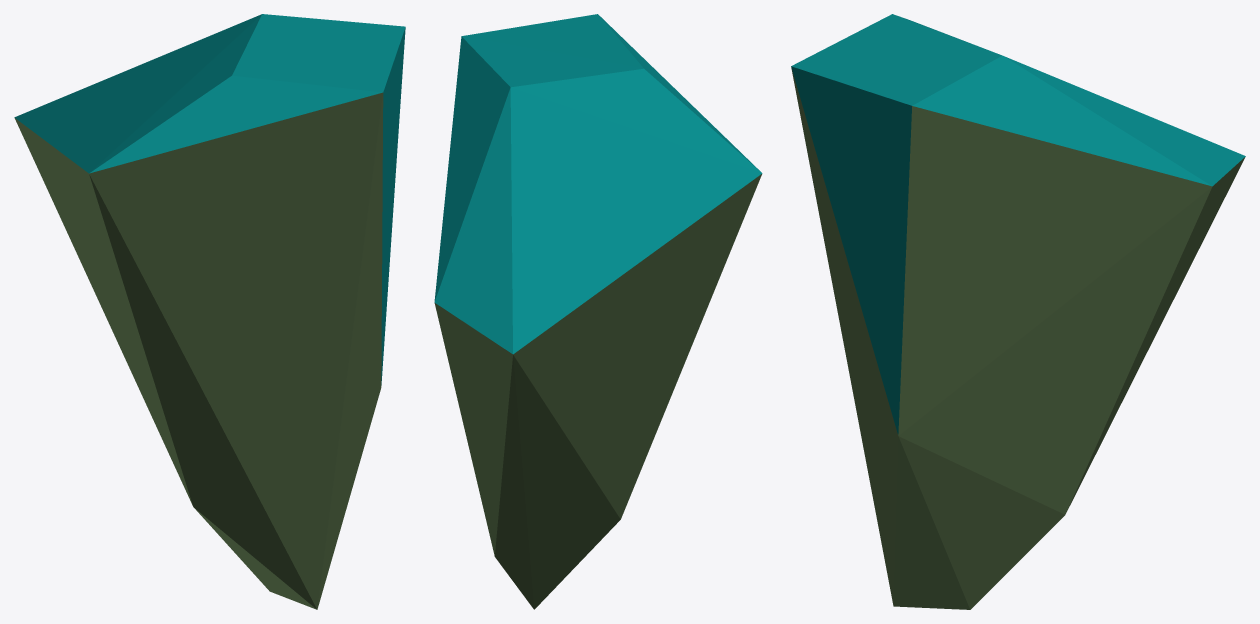
Rendered from Flowers.lod4.glb.
The picture shows the model from 3 angles, left to right: view 1: azimuth 30°, elevation 25°; view 2: azimuth 150°, elevation 25°; view 3: azimuth 270°, elevation 25°; orthographic projection. The views are drawn at different scales.
Visible parts, largest first — view 1: Flowers; view 2: Flowers; view 3: Flowers.
Boxes of the visible parts, x1,y1,x2,y2 form: Flowers: [14, 14, 405, 609]; Flowers: [434, 14, 762, 609]; Flowers: [791, 14, 1245, 609].
Size of the model in its own units: 0.4937 by 0.8363 by 0.6171.
